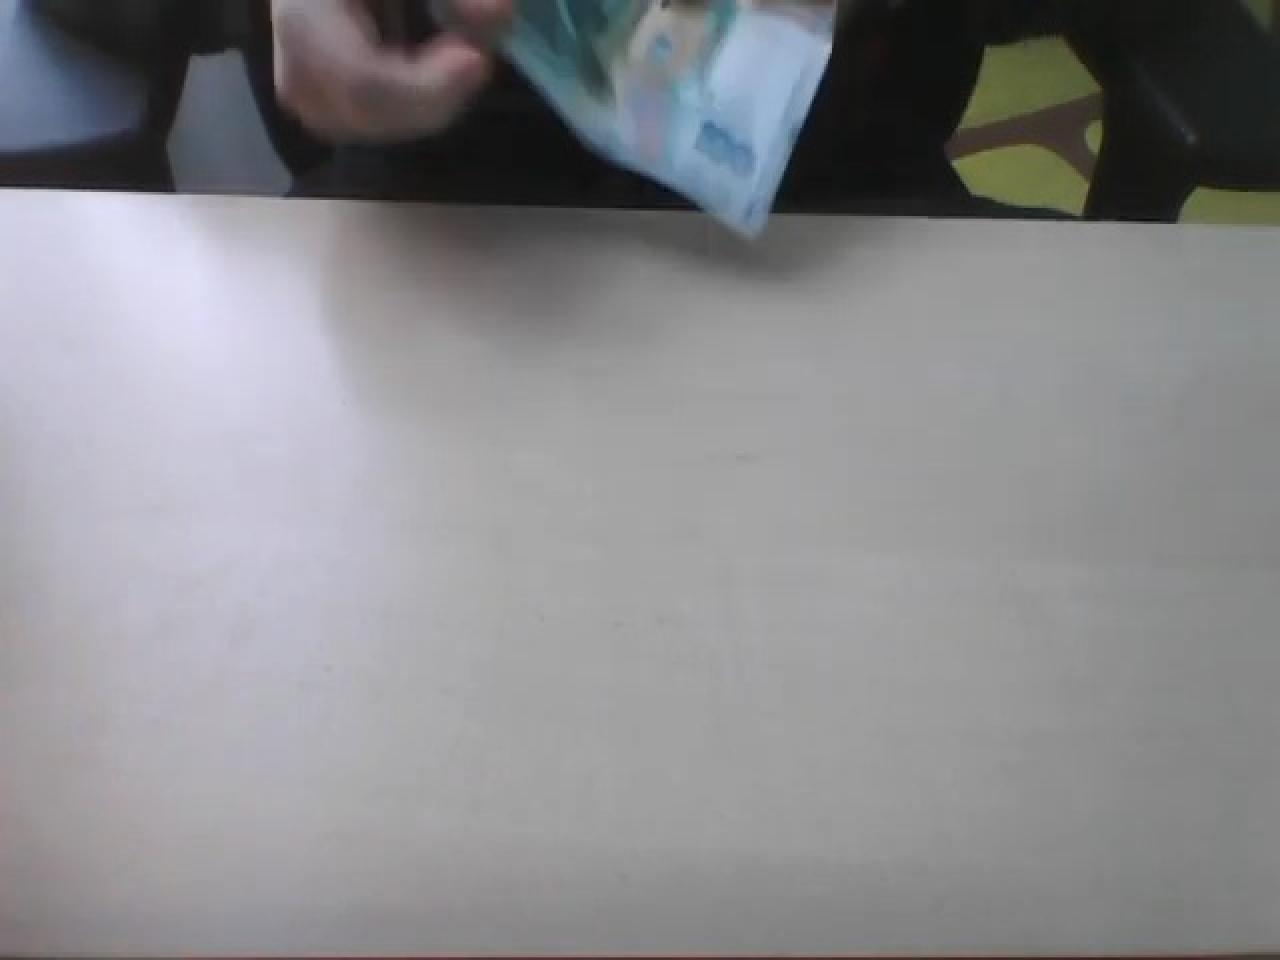100leva: (4, 0, 1274, 229)
